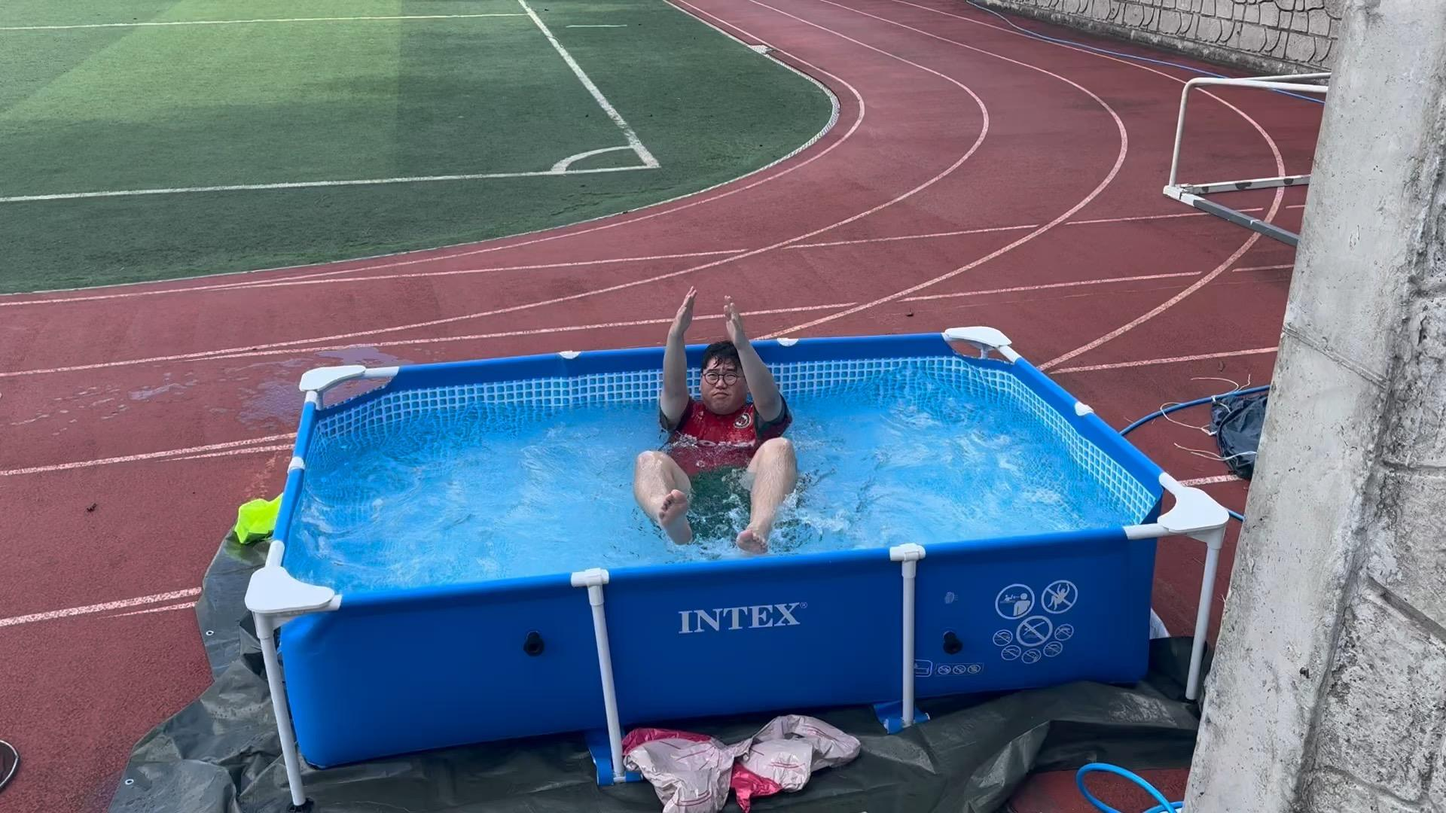Drowning: (612, 268, 832, 566)
